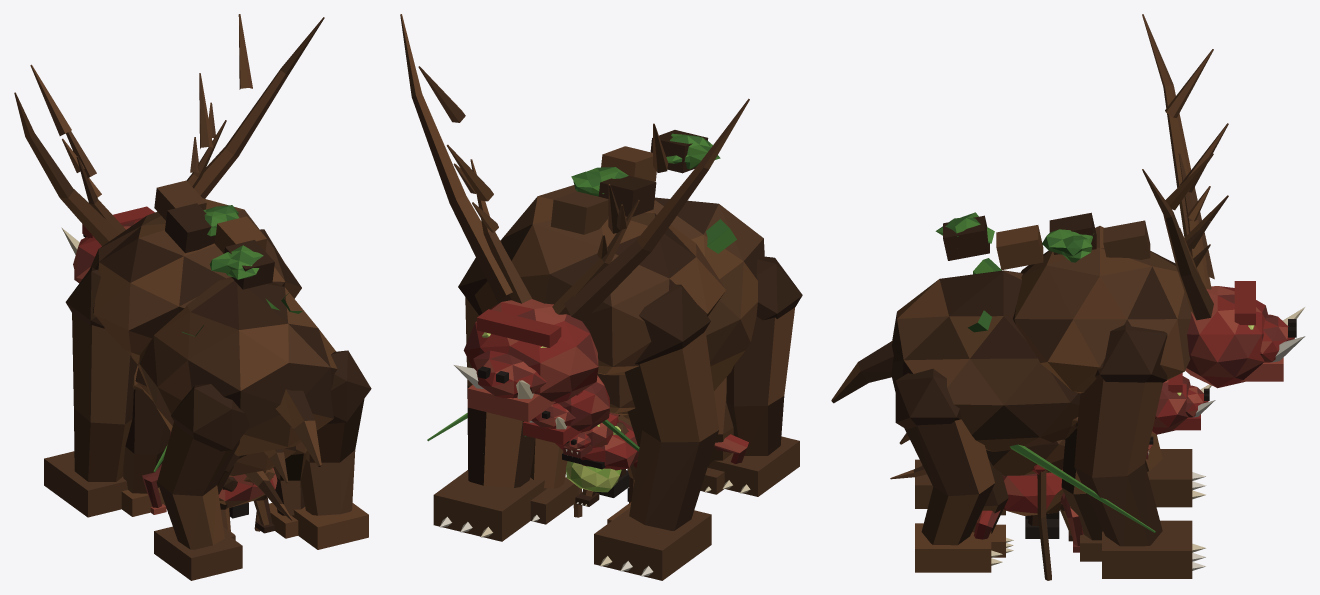
The model's file is foes-root.glb.
3 renders of one model, left to right at view 1: azimuth 30°, elevation 25°; view 2: azimuth 150°, elevation 25°; view 3: azimuth 270°, elevation 25°, orthographic. The views are drawn at different scales.
Parts seen in each view (by area): view 1: fo_root_boss_body, fo_root_boss_legFL, fo_root_boss_legBL, fo_root_boss_head, fo_root_boss_legBR, fo_root_brute_legFL, fo_root_brute_legBR, fo_root_boss_tail, fo_root_brute_body, fo_root_spitter_body, fo_root_skirmisher_tail, fo_root_skirmisher_legBR (+1 smaller); view 2: fo_root_boss_body, fo_root_boss_head, fo_root_boss_legFL, fo_root_boss_legBL, fo_root_boss_legFR, fo_root_brute_legFR, fo_root_brute_head, fo_root_boss_jaw, fo_root_spitter_head, fo_root_brute_legBL, fo_root_spitter_sacGlow, fo_root_brute_body (+3 smaller); view 3: fo_root_boss_body, fo_root_boss_legFR, fo_root_boss_head, fo_root_boss_legBR, fo_root_boss_legFL, fo_root_brute_head, fo_root_brute_legFR, fo_root_spitter_body, fo_root_brute_body, fo_root_boss_tail, fo_root_brute_legBR, fo_root_shade_armR (+1 smaller).
Boxes of the visible parts, box(x1,y1,x2,y2) form: fo_root_boss_body: box(90, 180, 337, 471); fo_root_boss_legFL: box(44, 266, 137, 517); fo_root_boss_legBL: box(154, 384, 249, 580); fo_root_boss_head: box(14, 14, 324, 281); fo_root_boss_legBR: box(292, 350, 371, 549); fo_root_brute_legFL: box(121, 365, 170, 516); fo_root_brute_legBR: box(269, 441, 307, 538); fo_root_boss_tail: box(275, 389, 321, 466); fo_root_brute_body: box(135, 367, 296, 476); fo_root_spitter_body: box(218, 468, 277, 507); fo_root_skirmisher_tail: box(245, 471, 292, 520); fo_root_skirmisher_legBR: box(253, 468, 275, 533); fo_root_boss_body: box(427, 130, 764, 453); fo_root_boss_head: box(400, 14, 749, 403); fo_root_boss_legFL: box(594, 284, 719, 580); fo_root_boss_legBL: box(707, 256, 802, 496); fo_root_boss_legFR: box(433, 240, 546, 541); fo_root_brute_legFR: box(530, 438, 578, 524); fo_root_brute_head: box(529, 375, 609, 432); fo_root_boss_jaw: box(467, 385, 555, 422); fo_root_spitter_head: box(555, 415, 638, 470); fo_root_brute_legBL: box(700, 377, 733, 494); fo_root_spitter_sacGlow: box(566, 461, 621, 492); fo_root_brute_body: box(597, 373, 635, 420); fo_root_boss_body: box(891, 212, 1191, 532); fo_root_boss_legFR: box(1074, 324, 1206, 578); fo_root_boss_head: box(1142, 14, 1305, 388); fo_root_boss_legBR: box(895, 368, 1002, 572); fo_root_boss_legFL: box(1145, 432, 1205, 507); fo_root_brute_head: box(1152, 373, 1215, 434); fo_root_brute_legFR: box(1061, 422, 1103, 561); fo_root_spitter_body: box(1002, 469, 1063, 515); fo_root_brute_body: box(986, 417, 1078, 476); fo_root_boss_tail: box(831, 341, 893, 403); fo_root_brute_legBR: box(972, 459, 1013, 557); fo_root_shade_armR: box(1032, 464, 1051, 580).
Size of the model in its own units: 2.59 by 3.61 by 3.33.
